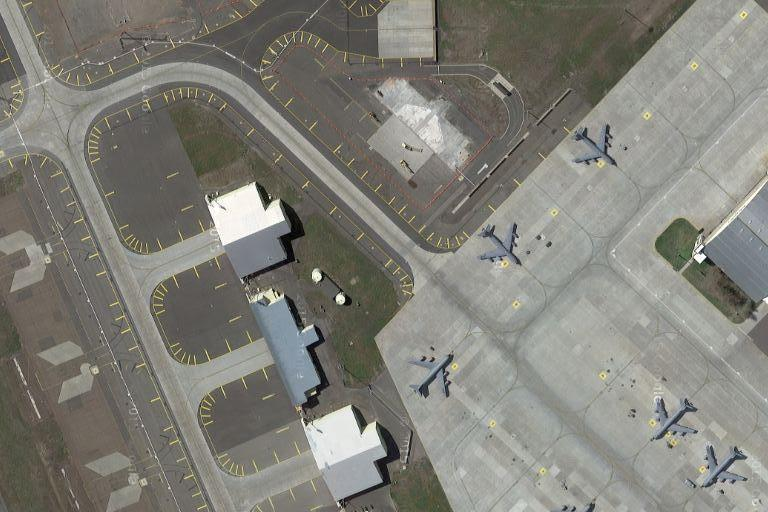KC-135: (647, 395, 700, 448), (694, 444, 750, 493), (405, 351, 457, 401), (568, 120, 619, 170), (474, 221, 523, 267)
